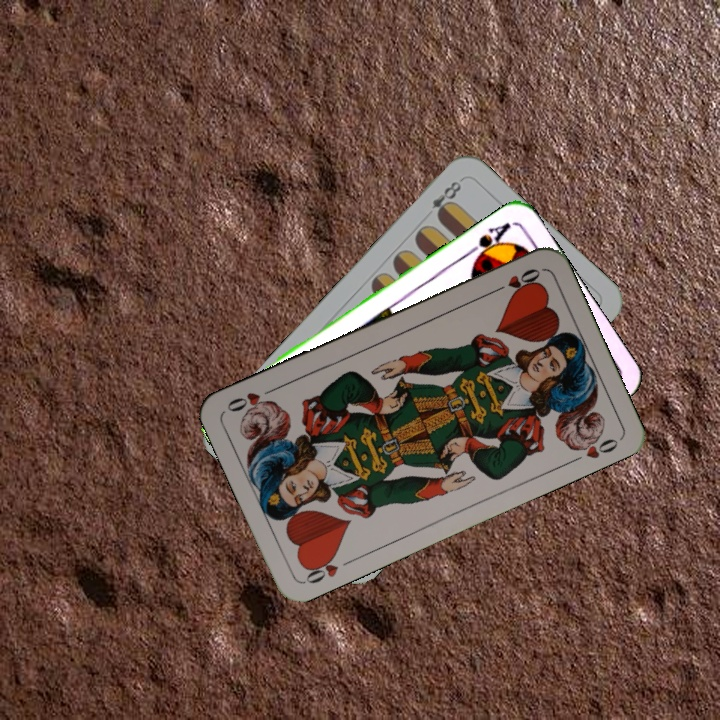E8: (427, 175, 465, 222)
HO: (300, 550, 356, 587), (488, 264, 543, 296)
SA: (462, 218, 514, 266)
